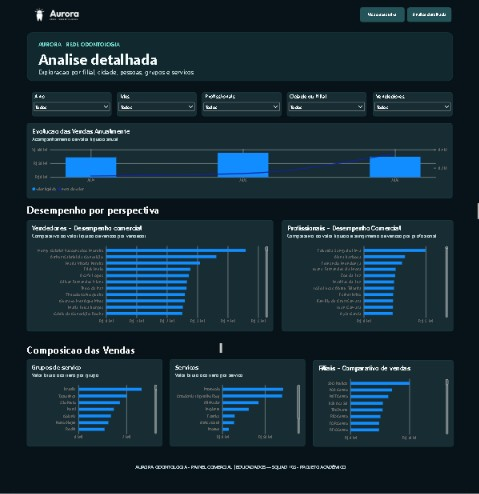

Layout of this report page (visuals, bound fields, positions):
{"tool":"powerbi","page":{"name":"Análise detalhada","canvas":[1600,1647],"ordinal":1},"visuals":[{"type":"bookmarkNavigator","title":"Explore os níveis","box":[1095,393.3,361.7,185],"z":0},{"type":"shape","box":[90,110,1420,163],"z":1000},{"type":"textbox","box":[125,166.7,418.3,71.7],"z":2000},{"type":"textbox","box":[125,225,535,48.3],"z":3000},{"type":"textbox","box":[125,138,463.3,28.3],"z":4000},{"type":"image","box":[90,18.3,190,61.7],"z":5000},{"type":"slicer","fields":{"Values":["dCalendario.ano"]},"box":[808,162,265,80],"z":6000},{"type":"slicer","fields":{"Values":["dCalendario.mes_nome"]},"box":[1140,162,265,80],"z":7000},{"type":"textbox","box":[90,1546,1420,102],"z":8000},{"type":"pivotTable","fields":{"Rows":["dVendedores.vendedor"],"Values":["Medidas base.valor líquido","Medidas metas.val vendedor","Medidas percentuais.val vendedor %","Medidas base.número de vendas","Medidas metas.qtde vendedor","Medidas percentuais.qtde vendedor %"]},"box":[90,360,1050,378.3],"z":9000},{"type":"lineClusteredColumnComboChart","title":"Evolução das Vendas X Metas","fields":{"Category":["dCalendario.mes_ano"],"Y":["Medidas base.valor líquido"],"Y2":["Medidas metas.val rede"]},"box":[92.5,840,937.5,295],"z":12000},{"type":"textbox","box":[1040,840,470,620],"z":13000},{"type":"cardVisual","fields":{"Data":["Medidas especiais.Destaque - Vendedor Líder"]},"box":[1050,925,450,142.5],"z":14000},{"type":"lineClusteredColumnComboChart","title":"Evolução dos Itens Vendidos X Metas","fields":{"Category":["dCalendario.mes_ano"],"Y":["Medidas base.quantidade de itens"],"Y2":["Medidas base.meta de quantidade"]},"box":[92.5,1165,937.5,295],"z":15000},{"type":"cardVisual","fields":{"Data":["Medidas especiais.Destaque - Serviço Líder"]},"box":[1050,1092.5,450,142.5],"z":16000},{"type":"cardVisual","fields":{"Data":["Medidas especiais.Destaque - Profissional Líder"]},"box":[1050,1260,450,142.5],"z":17000},{"type":"actionButton","box":[1354.3,18.6,145,80],"z":18000},{"type":"textbox","box":[90,762,1510,58],"z":19000},{"type":"textbox","box":[90,294,1510,58],"z":20000},{"type":"image","box":[1265,31,89,68],"z":21000}]}

Visuals, with their boxes in screenshot pixels (x1, y1, x2, y2), scaled from the page's 1600x1647 canvas onto the 479x494 screenshot:
"Explore os níveis" bookmarkNavigator: [328,118,436,173]
shape: [27,33,452,82]
textbox: [37,50,163,72]
textbox: [37,67,198,82]
textbox: [37,41,176,50]
image: [27,5,84,24]
slicer - dCalendario.ano: [242,49,321,73]
slicer - dCalendario.mes_nome: [341,49,421,73]
textbox: [27,464,452,493]
pivotTable - dVendedores.vendedor x Medidas base.valor líquido: [27,108,341,221]
"Evolução das Vendas X Metas" lineClusteredColumnComboChart: [28,252,308,340]
textbox: [311,252,452,438]
cardVisual - Medidas especiais.Destaque - Vendedor Líder: [314,277,449,320]
"Evolução dos Itens Vendidos X Metas" lineClusteredColumnComboChart: [28,349,308,438]
cardVisual - Medidas especiais.Destaque - Serviço Líder: [314,328,449,370]
cardVisual - Medidas especiais.Destaque - Profissional Líder: [314,378,449,421]
actionButton: [405,6,449,30]
textbox: [27,229,478,246]
textbox: [27,88,478,106]
image: [379,9,405,30]
